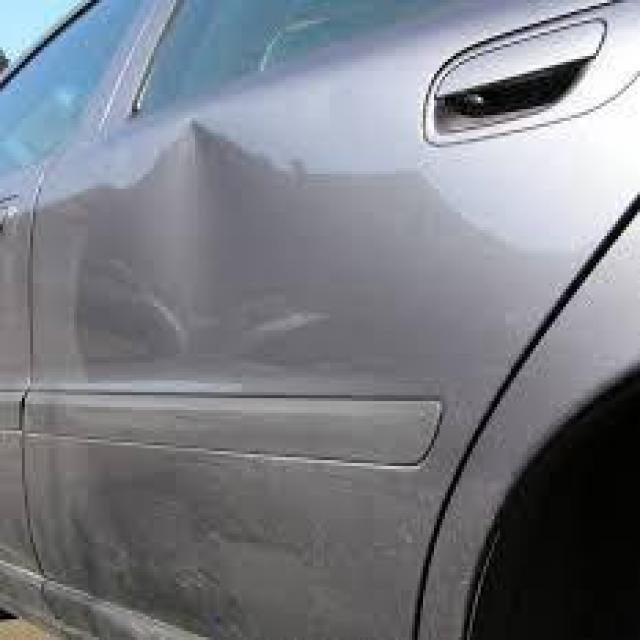damaged: (71, 121, 332, 369)
